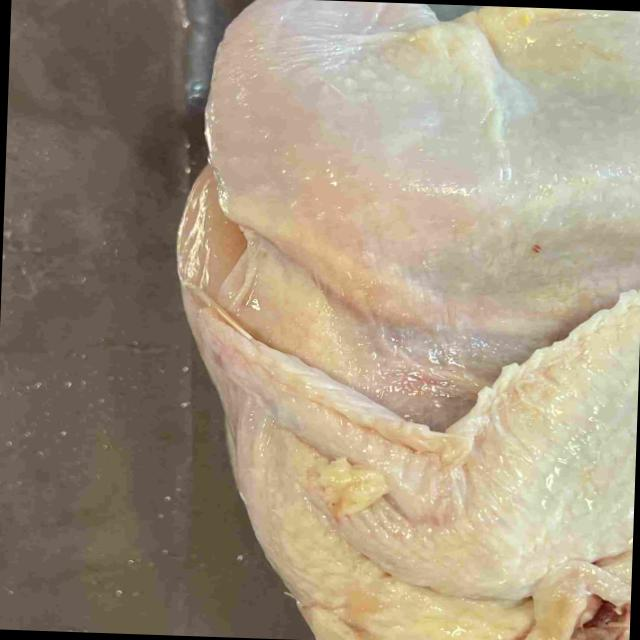leg: (212, 0, 604, 313)
neck: (532, 560, 632, 640)
wing: (181, 287, 640, 597)
